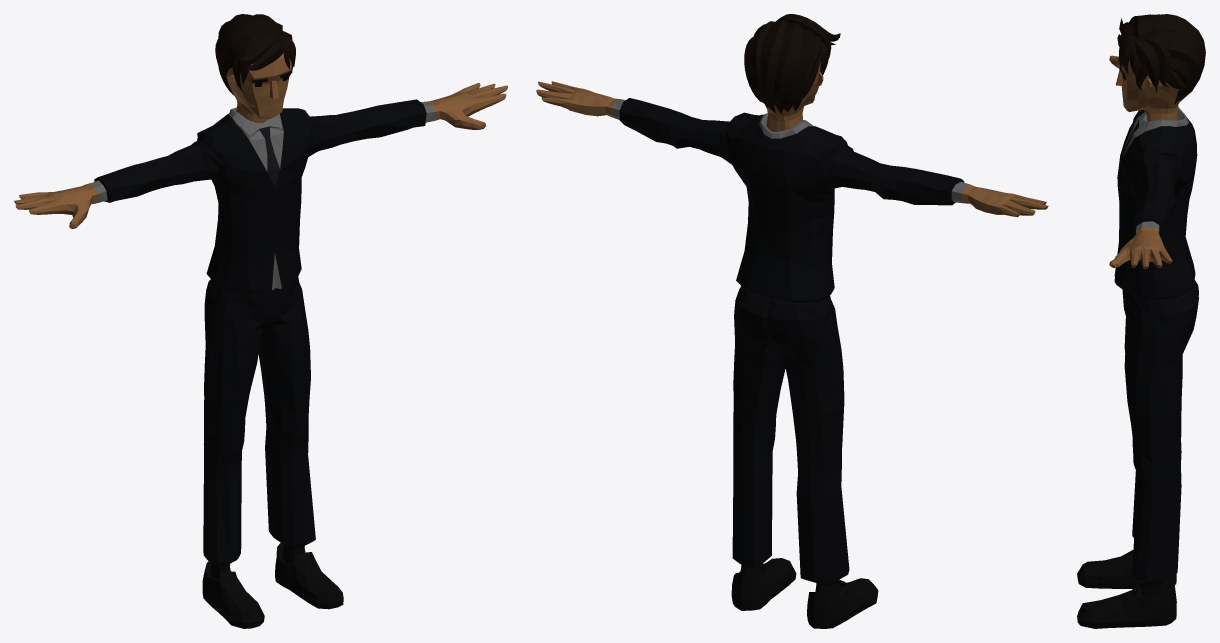
File: BusinessMan.obj
3 views of the same model, side by side, from view 1: azimuth 30°, elevation 25°; view 2: azimuth 150°, elevation 25°; view 3: azimuth 270°, elevation 25° (orthographic). The views are drawn at different scales.
Visible parts, largest first — view 1: Suit_Legs, Suit_Body, Suit_Feet, Suit_Body_3, Suit_Head_1, Suit_Head, Suit_Body_1; view 2: Suit_Legs, Suit_Body, Suit_Head_1, Suit_Feet, Suit_Body_3, Suit_Head, Suit_Body_1; view 3: Suit_Legs, Suit_Body, Suit_Head_1, Suit_Feet, Suit_Head, Suit_Body_3, Suit_Body_1.
Part boxes in pixels (x1,y1,x2,y2): Suit_Legs: (203,277,315,564); Suit_Body: (94,99,426,292); Suit_Feet: (202,542,343,628); Suit_Body_3: (14,83,507,228); Suit_Head_1: (215,14,295,95); Suit_Head: (226,52,291,122); Suit_Body_1: (88,101,434,290); Suit_Legs: (732,286,849,582); Suit_Body: (619,98,964,302); Suit_Head_1: (744,14,840,113); Suit_Feet: (731,558,878,628); Suit_Body_3: (536,81,1048,217); Suit_Head: (765,62,823,131); Suit_Body_1: (610,99,969,203); Suit_Legs: (1122,280,1198,581); Suit_Body: (1114,109,1197,299); Suit_Head_1: (1117,14,1205,104); Suit_Feet: (1077,550,1176,628); Suit_Head: (1116,56,1180,121); Suit_Body_3: (1109,55,1172,269); Suit_Body_1: (1114,107,1188,276).
Size of the model in its own units: 1.68 by 1.86 by 0.3716.
